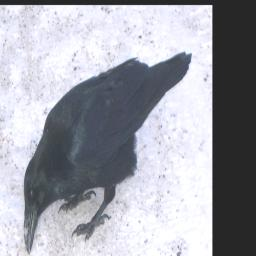Crow: (24, 52, 194, 254)
